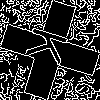K: (25, 25, 78, 70)
